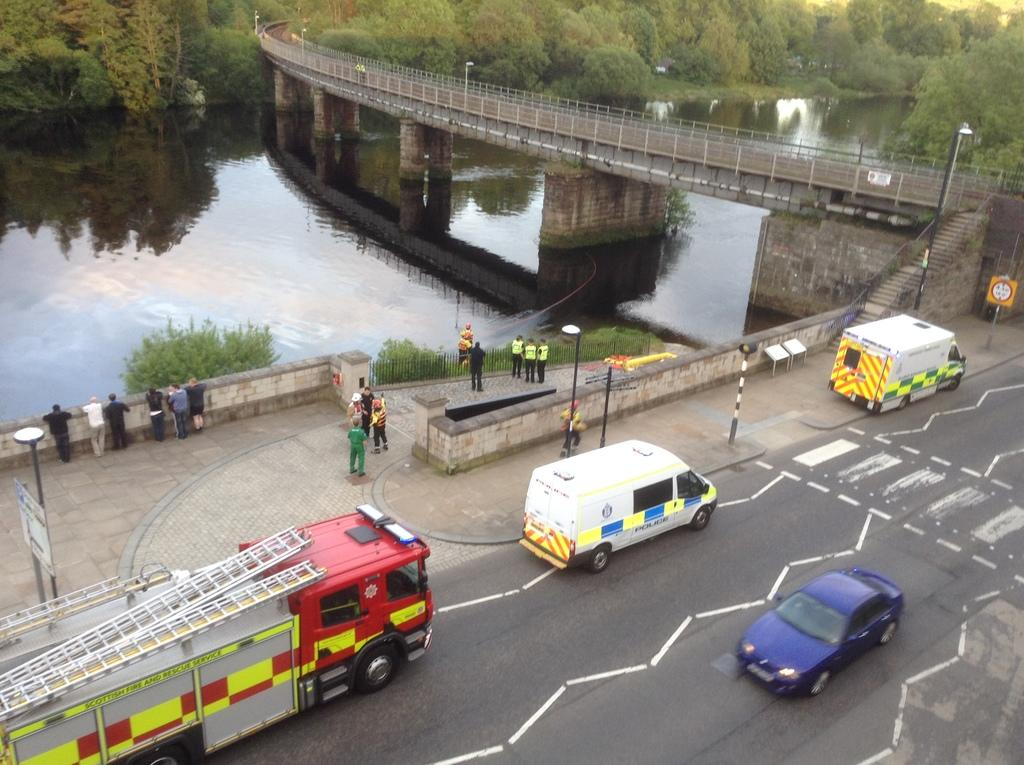vehicle: (1, 502, 434, 765), (521, 439, 717, 576), (739, 567, 903, 699), (829, 314, 967, 414)
